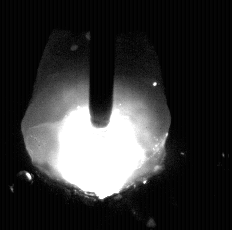arame: (89, 0, 114, 128)
poca: (21, 0, 169, 230)
